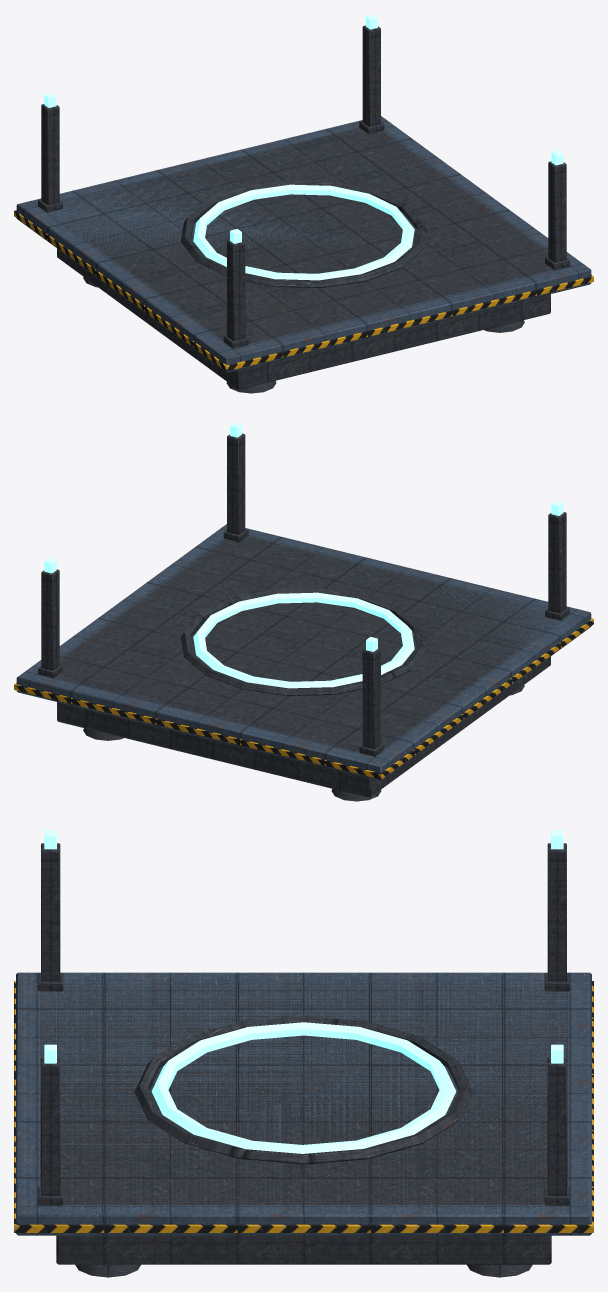
The model's file is extraction_pad_beacon_v2.glb.
3 views of the same model, one above another, from view 1: azimuth 30°, elevation 25°; view 2: azimuth 150°, elevation 25°; view 3: azimuth 270°, elevation 25° (orthographic). The views are drawn at different scales.
Parts seen in each view (by area): view 1: plataforma_meta; view 2: plataforma_meta; view 3: plataforma_meta.
Part boxes in pixels (box(x1,y1,x2,y2)): plataforma_meta: box(14, 14, 593, 393); plataforma_meta: box(14, 422, 593, 801); plataforma_meta: box(14, 830, 593, 1277).
Size of the model in its own units: 5.44 by 2.51 by 5.44.
4 materials, 3 textured.
